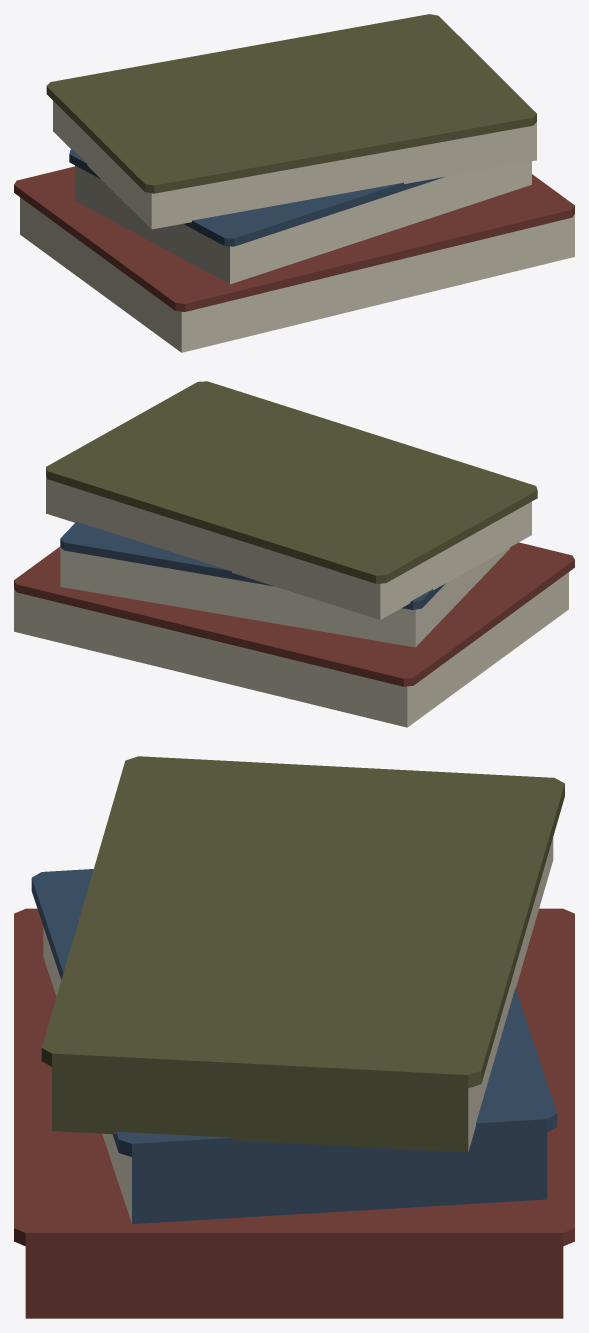
File: book_stack.glb
3 views of the same model, one above another, from view 1: azimuth 30°, elevation 25°; view 2: azimuth 150°, elevation 25°; view 3: azimuth 270°, elevation 25° (orthographic). The views are drawn at different scales.
Visible parts, largest first — view 1: book_stack; view 2: book_stack; view 3: book_stack.
Boxes of the visible parts, x1,y1,x2,y2 form: book_stack: (14,14,574,352); book_stack: (14,381,574,727); book_stack: (14,756,574,1318).
Size of the model in its own units: 0.26 by 0.09 by 0.19.
